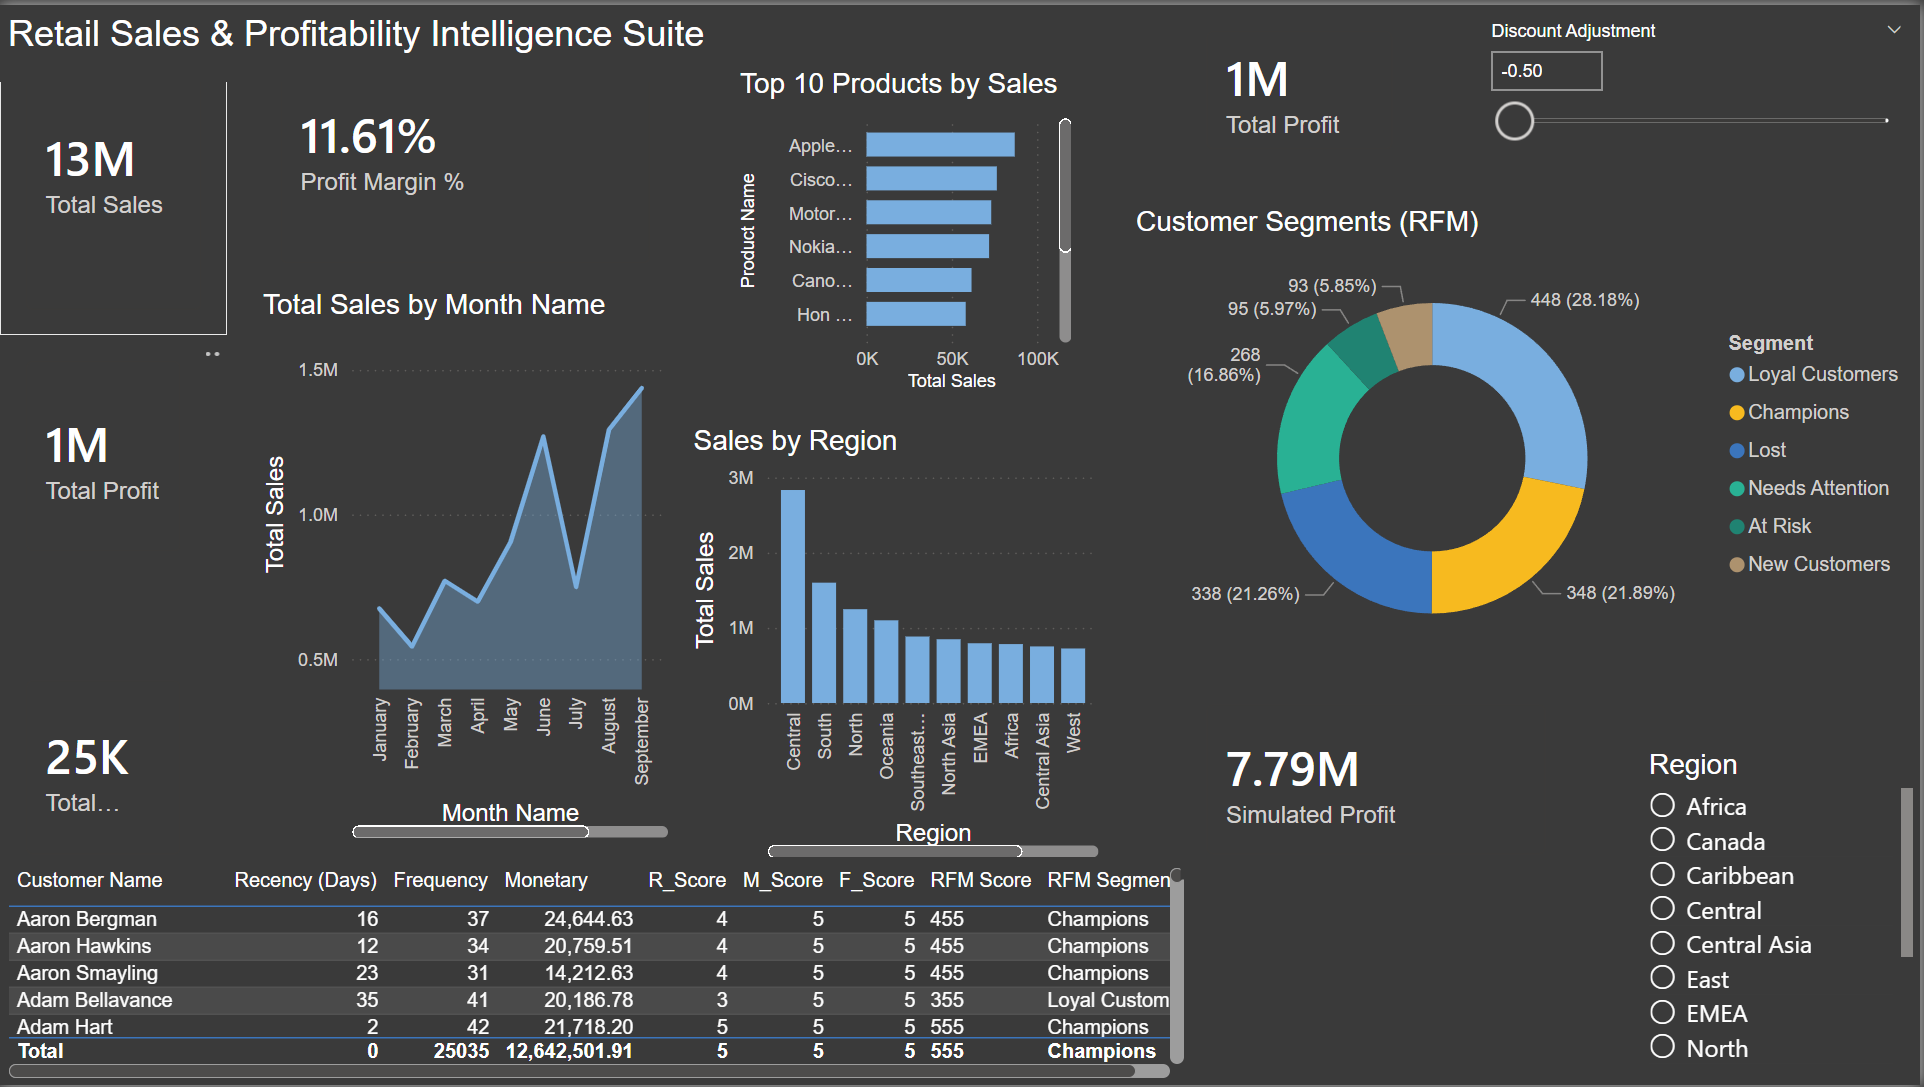

Layout of this report page (visuals, bound fields, positions):
{"tool":"powerbi","page":{"name":"Page 1","canvas":[1280,720],"ordinal":0},"visuals":[{"type":"cardVisual","fields":{"Data":["Fact_Orders.Total Sales"]},"box":[0,0,151,220],"z":0},{"type":"cardVisual","fields":{"Data":["Fact_Orders.Total Profit"]},"box":[0,220,137,161],"z":1000},{"type":"cardVisual","fields":{"Data":["Fact_Orders.Total Orders"]},"box":[0,433,137,150],"z":2000},{"type":"cardVisual","fields":{"Data":["Fact_Orders.Profit Margin %"]},"box":[170,0,280,189],"z":3000},{"type":"lineChart","fields":{"Category":["Dim_Date.Month Name"],"Y":["Fact_Orders.Total Sales"]},"box":[170,189,280,371],"z":4000},{"type":"clusteredBarChart","title":"Top 10 Products by Sales","fields":{"Category":["Dim_Product.Product Name"],"Y":["Fact_Orders.Total Sales"]},"box":[488,42,231,220],"z":5000},{"type":"clusteredColumnChart","title":"Sales by Region","fields":{"Category":["Dim_Region.Region"],"Y":["Fact_Orders.Total Sales"]},"box":[457,280,280,293],"z":6000},{"type":"tableEx","fields":{"Values":["Dim_Customer.Customer Name","Fact_Orders.Recency (Days)","Fact_Orders.Frequency","Fact_Orders.Monetary","Fact_Orders.R_Score","Fact_Orders.M_Score","Fact_Orders.F_Score","Fact_Orders.RFM Score","Fact_Orders.RFM Segment"]},"box":[0,570,794.3,150],"z":7000},{"type":"donutChart","title":"Customer Segments (RFM)","fields":{"Category":["Customer_RFM.Segment"],"Y":["CountNonNull(Customer_RFM.Customer ID)"]},"box":[752,134,528,315],"z":8000},{"type":"slicer","fields":{"Values":["Discount Adjustment 2.Discount Adjustment"]},"box":[981,5,299,116],"z":9000},{"type":"cardVisual","fields":{"Data":["Fact_Orders.Total Profit"]},"box":[787,0,158,113],"z":10000},{"type":"cardVisual","fields":{"Data":["Fact_Orders.Simulated Profit"]},"box":[787,449,260,134],"z":11000},{"type":"listSlicer","fields":{"Values":["Dim_Region.Region"]},"box":[1094,496,186,217],"z":12000},{"type":"textbox","box":[0,0,479,51],"z":12001}]}

Visuals, with their boxes in screenshot pixels (x1, y1, x2, y2), scaled from the page's 1280x720 canvas onto the 1924x1087 screenshot:
cardVisual - Fact_Orders.Total Sales: [0, 0, 227, 332]
cardVisual - Fact_Orders.Total Profit: [0, 332, 206, 575]
cardVisual - Fact_Orders.Total Orders: [0, 654, 206, 880]
cardVisual - Fact_Orders.Profit Margin %: [256, 0, 676, 285]
lineChart - Dim_Date.Month Name x Fact_Orders.Total Sales: [256, 285, 676, 845]
"Top 10 Products by Sales" clusteredBarChart: [734, 63, 1081, 396]
"Sales by Region" clusteredColumnChart: [687, 423, 1108, 865]
tableEx - Dim_Customer.Customer Name x Fact_Orders.Recency (Days): [0, 861, 1194, 1086]
"Customer Segments (RFM)" donutChart: [1130, 202, 1923, 678]
slicer - Discount Adjustment 2.Discount Adjustment: [1475, 8, 1923, 183]
cardVisual - Fact_Orders.Total Profit: [1183, 0, 1420, 171]
cardVisual - Fact_Orders.Simulated Profit: [1183, 678, 1574, 880]
listSlicer - Dim_Region.Region: [1644, 749, 1923, 1076]
textbox: [0, 0, 720, 77]
